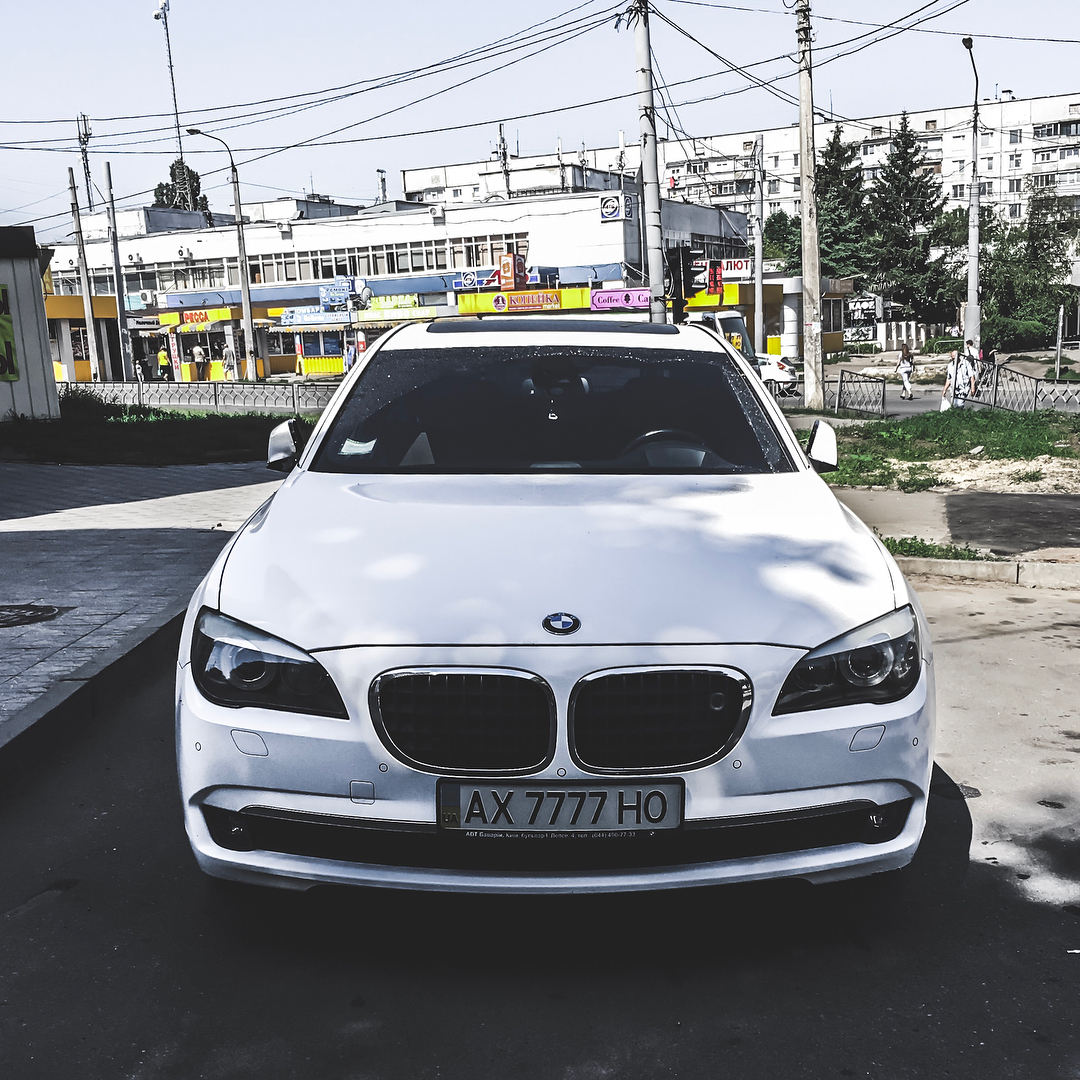car: (176, 309, 973, 899)
plate: (433, 774, 686, 834)
